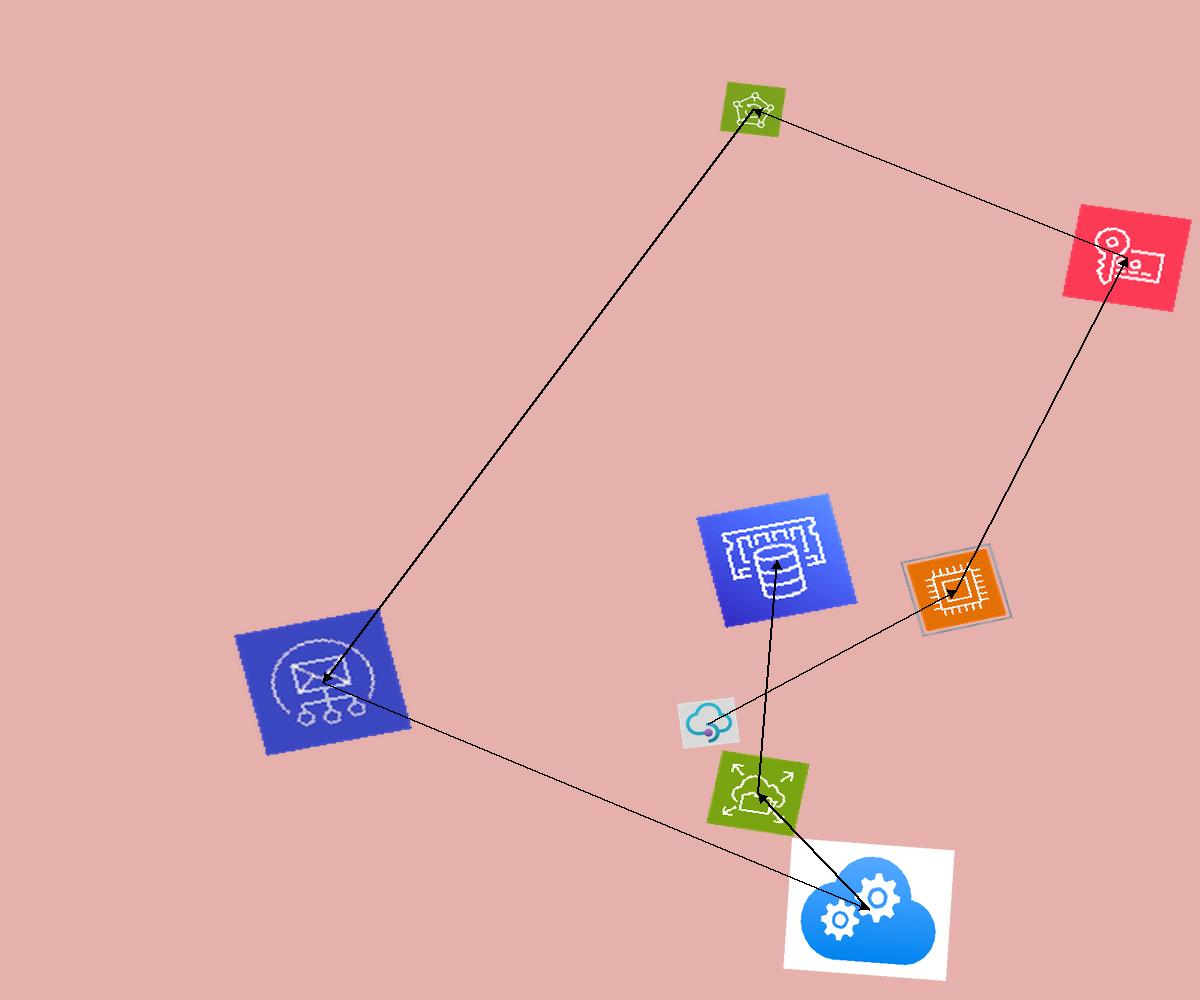AWS-Backup: (719, 81, 787, 138)
AWS-Category_Compute: (900, 543, 1013, 637)
AWS-EFS: (706, 750, 810, 837)
AWS-ElastiCache: (696, 493, 858, 628)
AWS-Key-Management-Service: (1061, 203, 1193, 313)
AWS-Simple-Email-Service: (234, 608, 412, 756)
Azure_api_gateway: (677, 697, 740, 749)
Azure_cloud_services: (783, 838, 955, 981)
